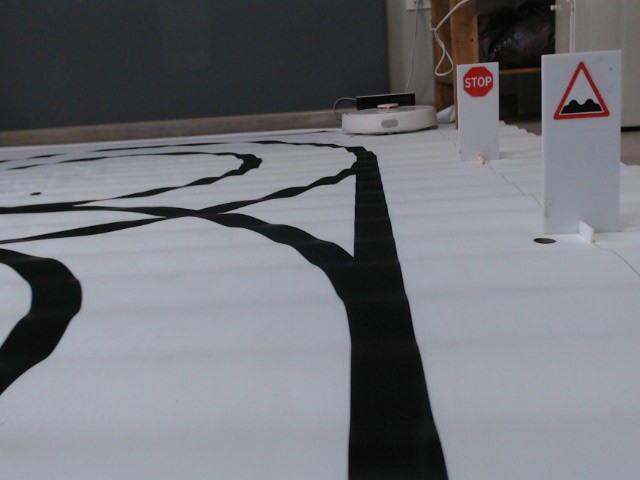Nerov: (553, 60, 612, 120)
